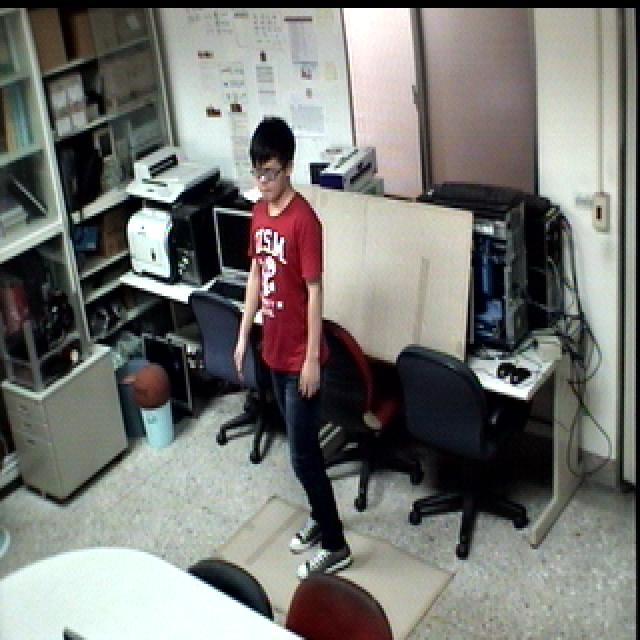stand: (222, 107, 358, 584)
